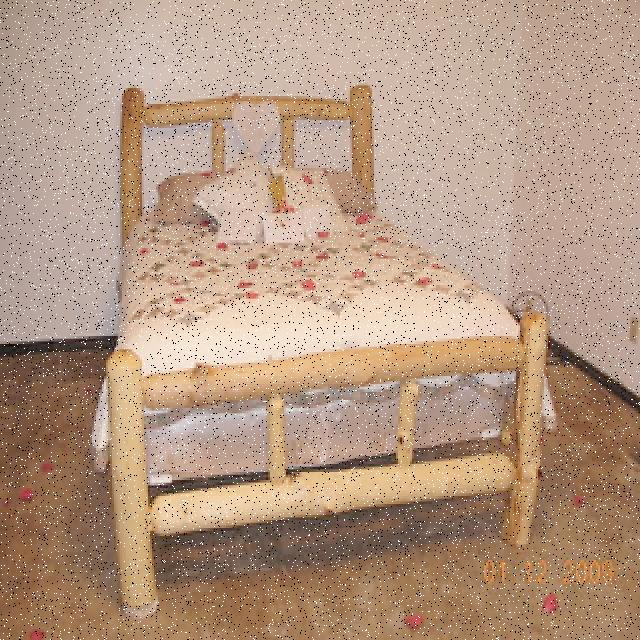bed: (106, 101, 543, 558)
